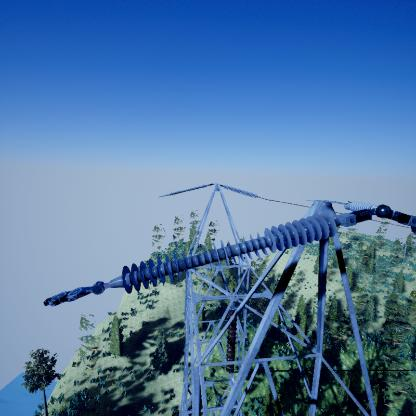insulator: (118, 210, 339, 293)
